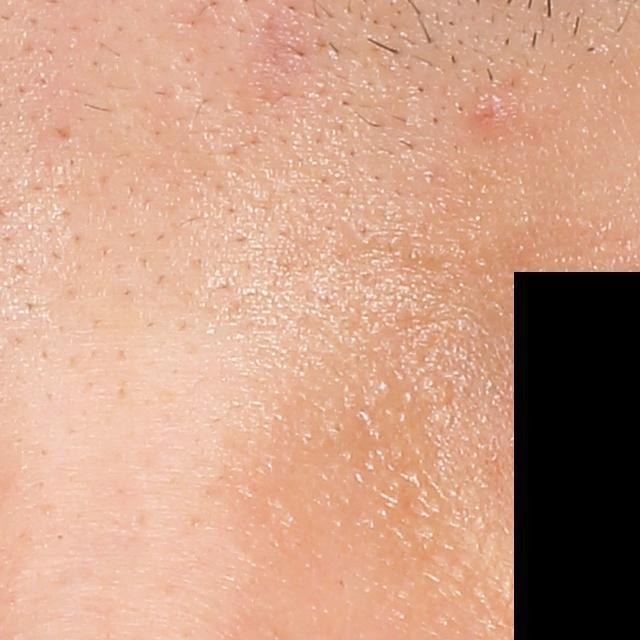papule: (469, 88, 519, 138)
